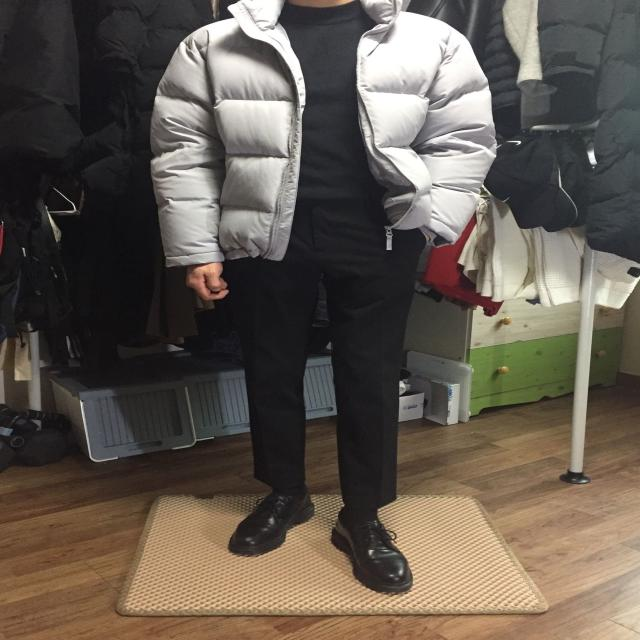padding: (152, 0, 497, 263)
slacks: (236, 226, 423, 514)
